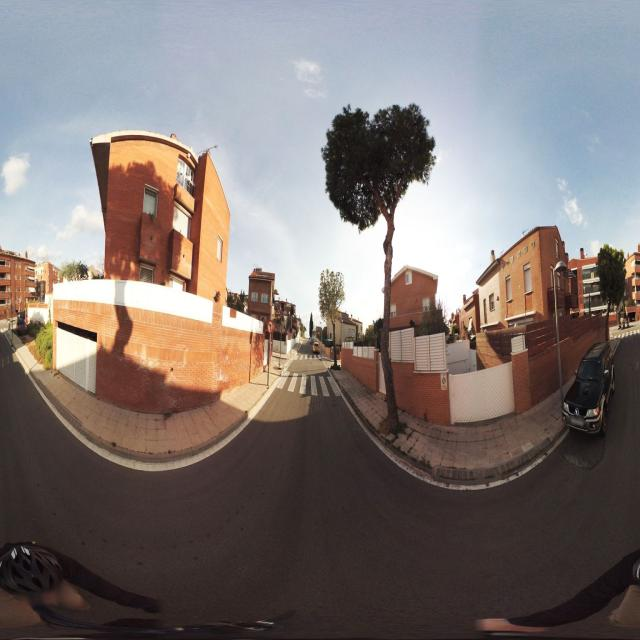forb_stopping: (289, 328, 292, 333)
